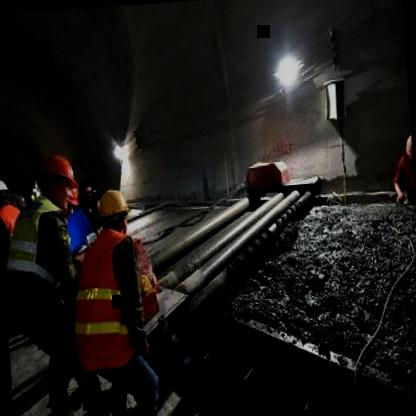helmet: (35, 152, 80, 216), (94, 186, 132, 242), (402, 126, 414, 171), (0, 169, 9, 208)
